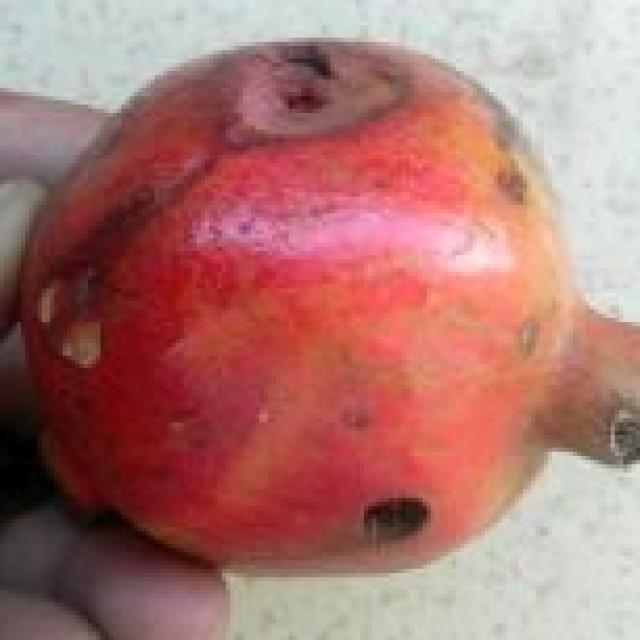Bad_Pomegranate-0-1-day: (13, 38, 640, 581)
